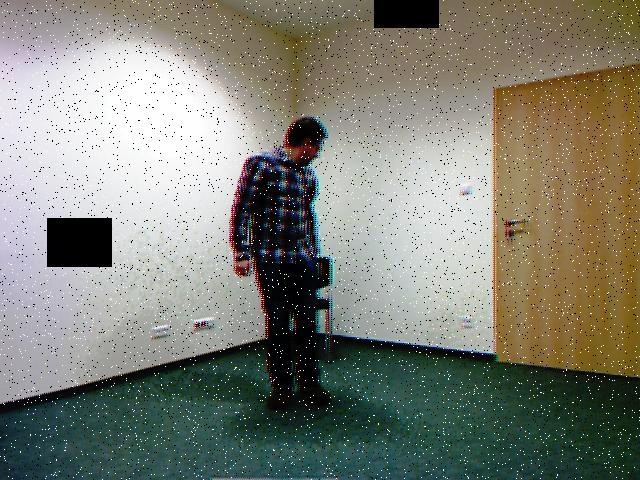walking: (220, 107, 343, 422)
